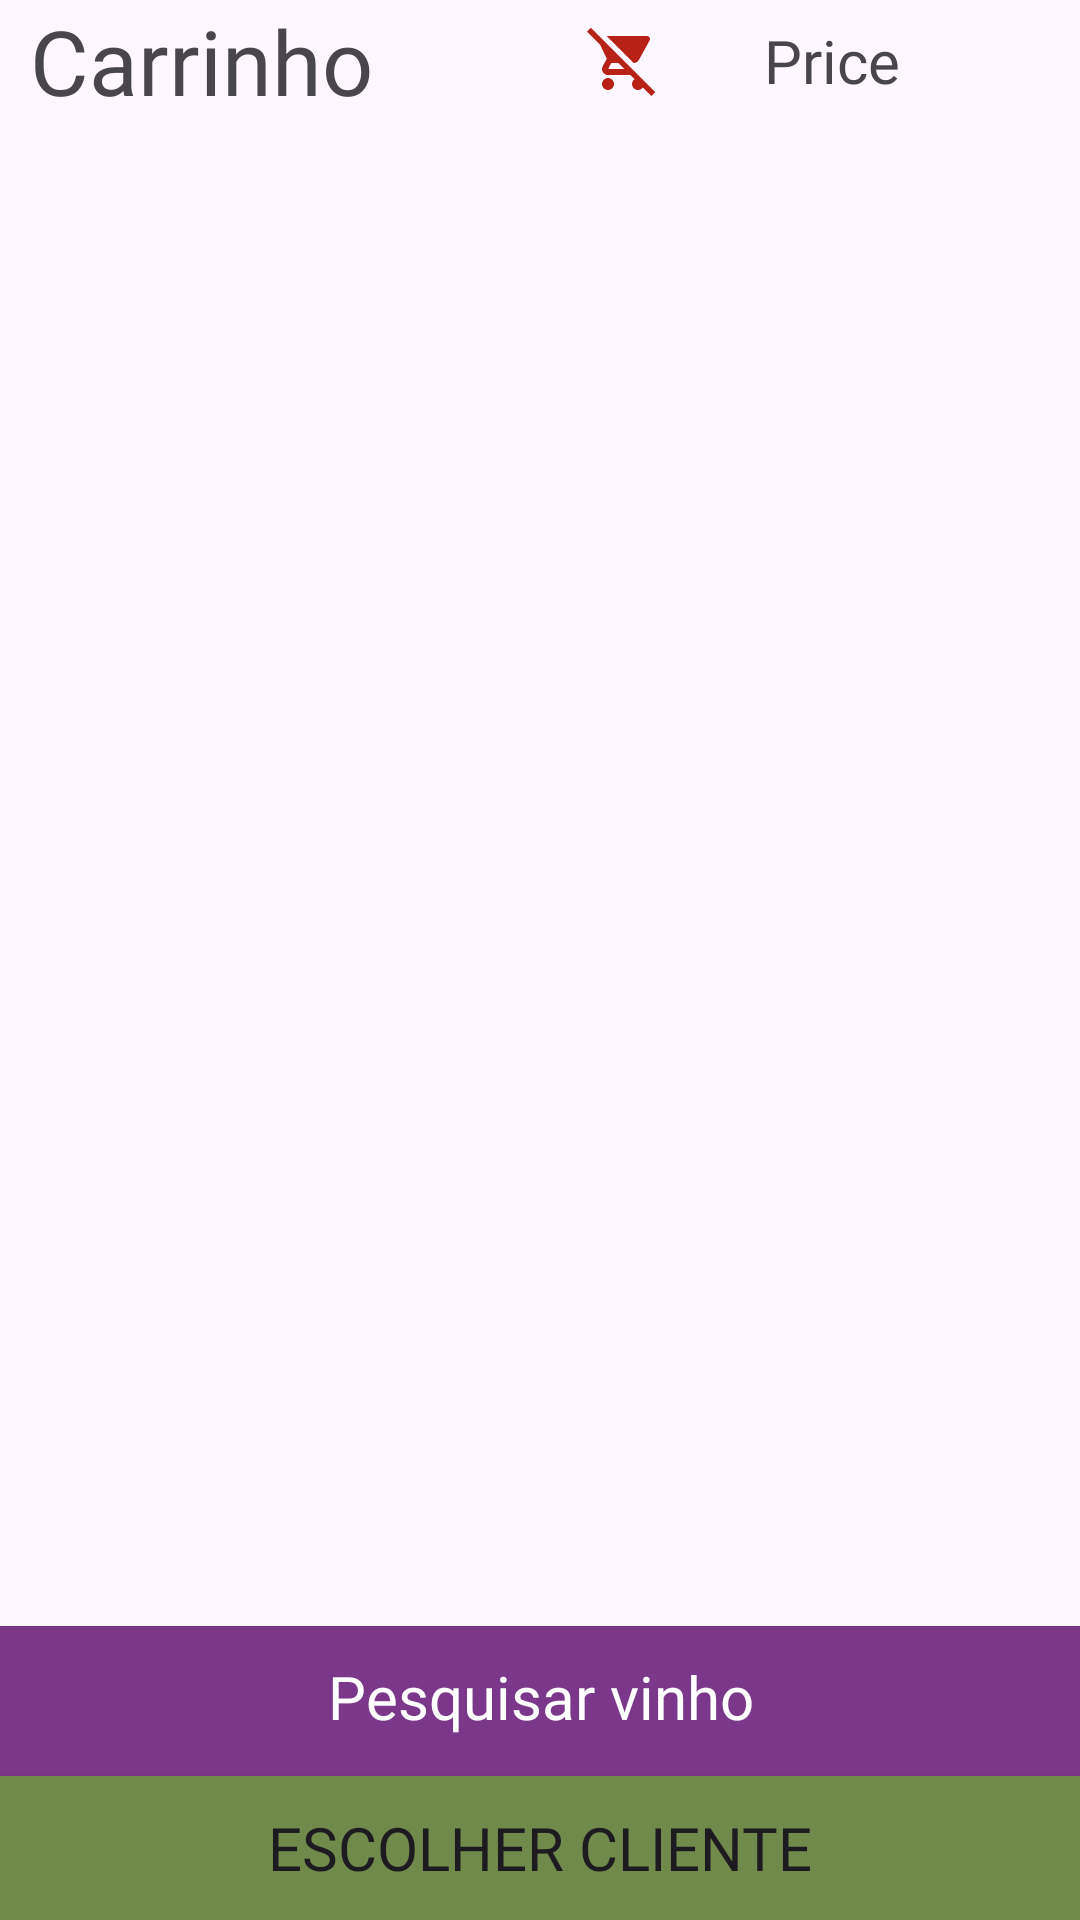

Locate icon controls on the screen. Image size 1080x1920, boxes as (x1, y1, x2, y2).
clear shopping cart: (587, 28, 655, 96)
